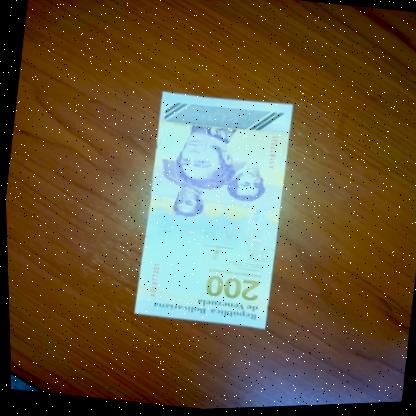two_hundred-front-vef: (126, 87, 297, 335)
